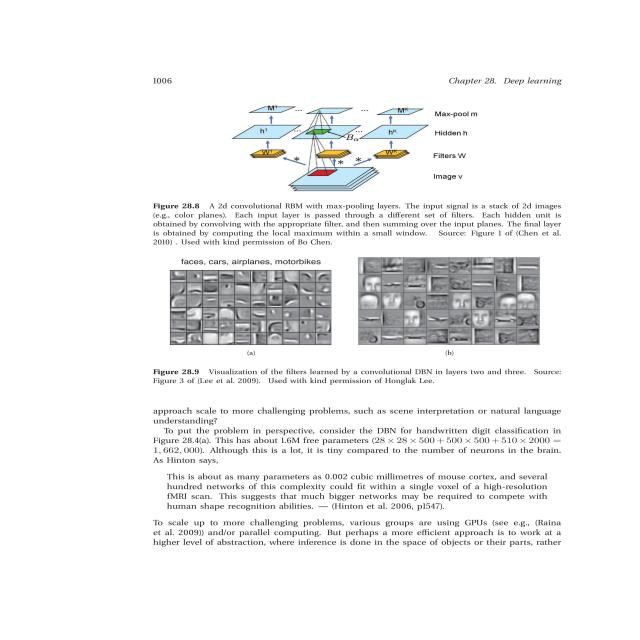diagram: (128, 59, 640, 252), (129, 258, 640, 389)
